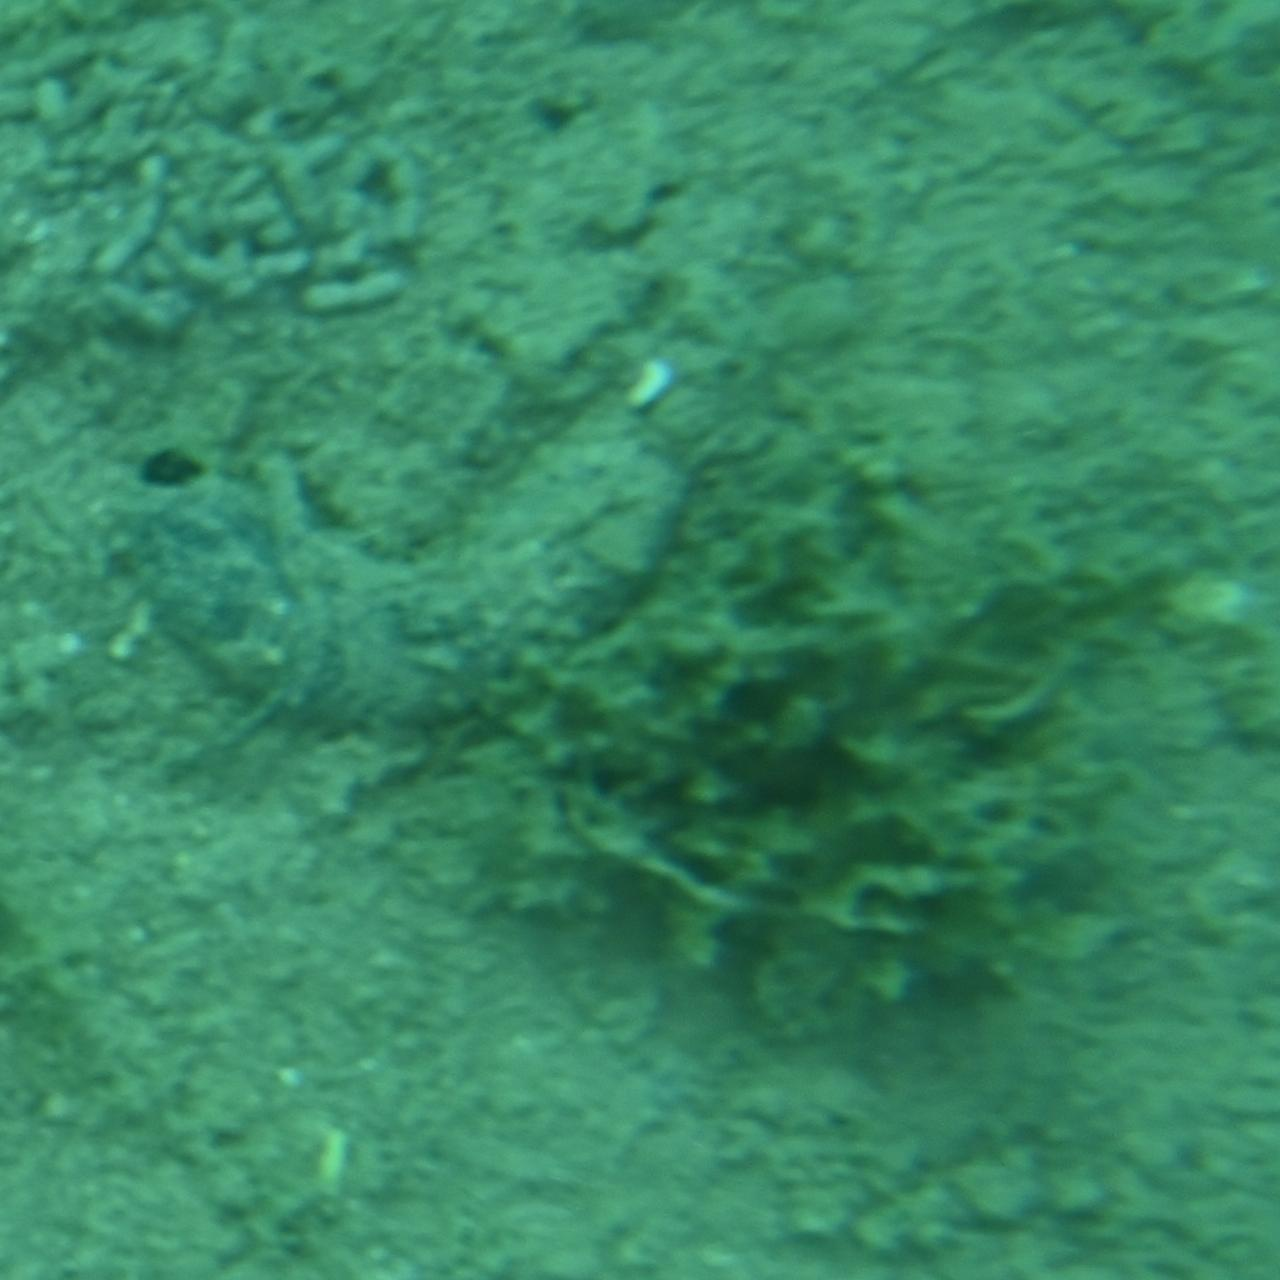Holothuria tubulosa: (100, 341, 775, 784)
Phaeophyceae -cfr Cystoseira-: (449, 458, 1238, 976)
